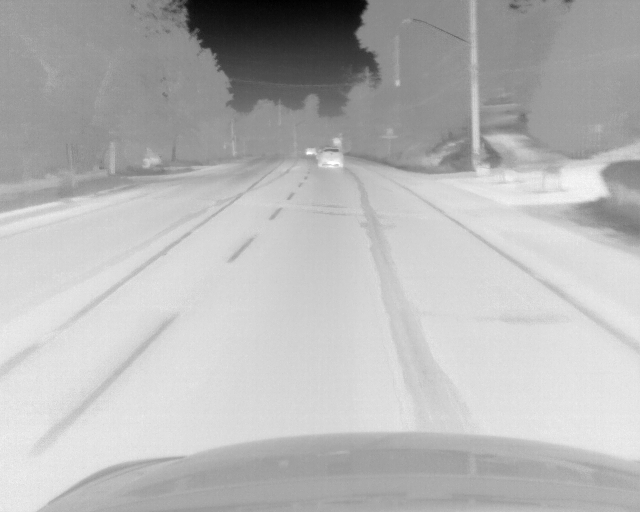car: (316, 147, 343, 169), (305, 146, 316, 156)
